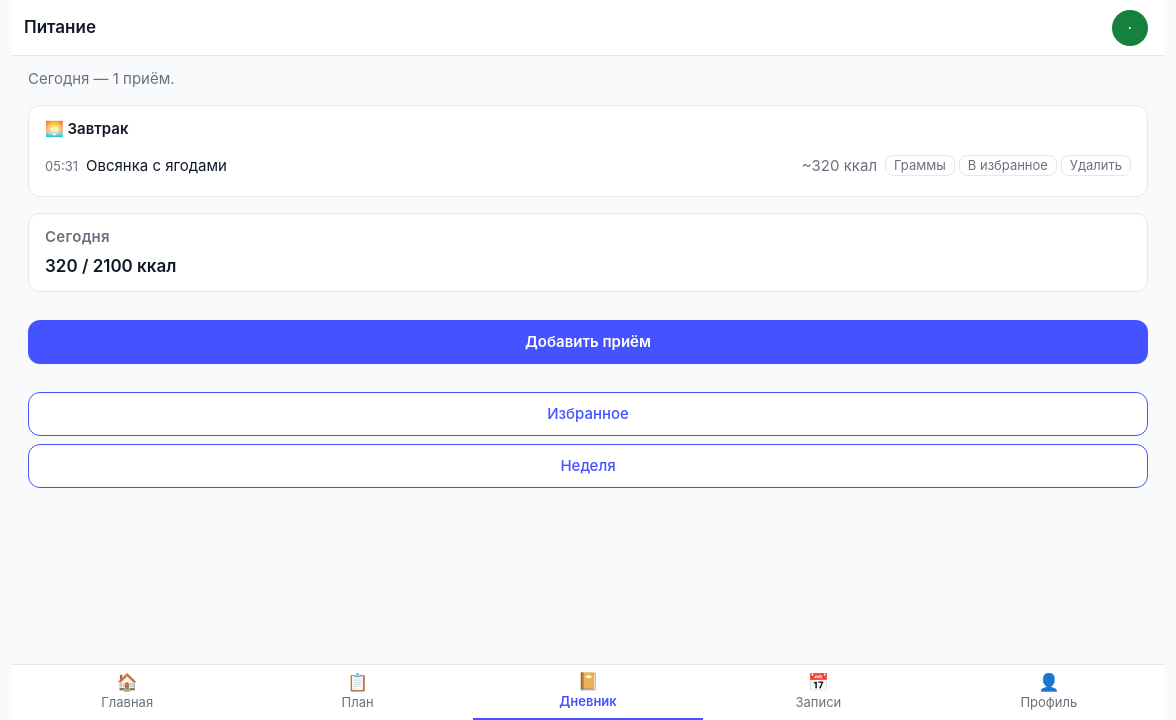
Test: дневник → избранное › отказ каталога назван, не проглочен
The width and height of the screenshot is (1176, 720).
Expected: the text "Овсянка с ягодами" is shown, left=86, top=155, right=227, bottom=176
Click the button "В избранное": (1008, 166) left=959, top=155, right=1057, bottom=176
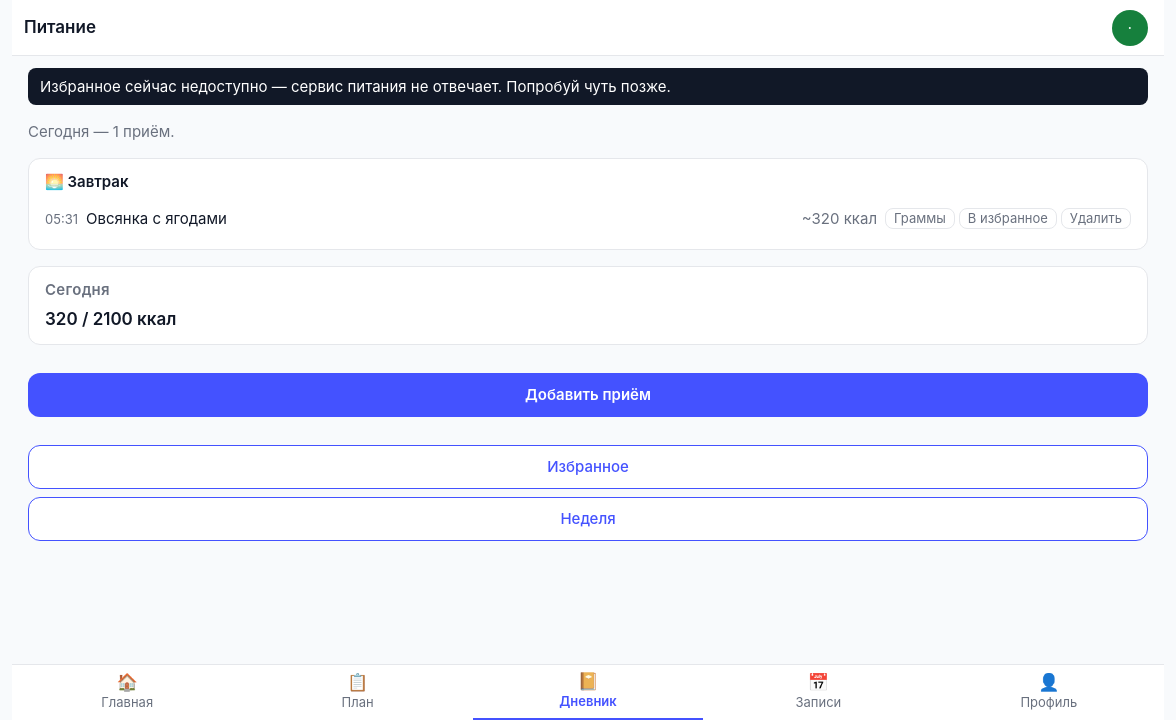
Expected: the text "Избранное сейчас недоступно — сервис питания не отвечает. Попробуй чуть позже." is shown, left=40, top=76, right=671, bottom=97
